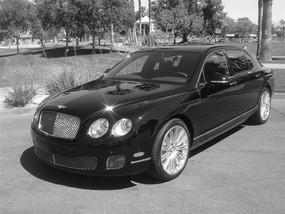car: (30, 45, 275, 189)
